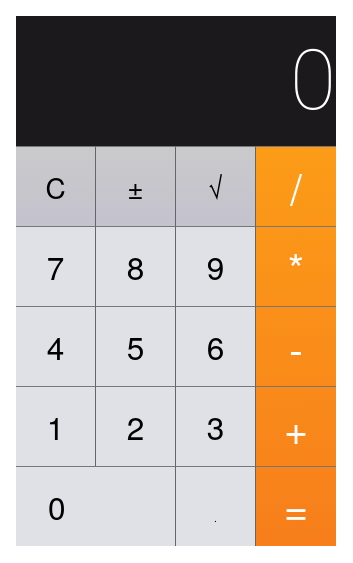
Test: Calculator Tests › should display 4 when "2 * 2 = " is clicked
Click the button with class "key-2": [136, 426] box [96, 386, 176, 466]
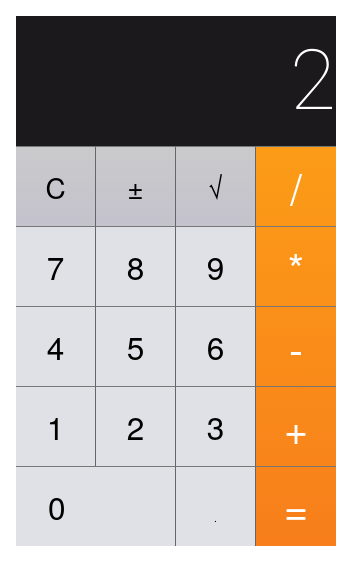
Click the button with class "key-multiply": [296, 266] box [256, 226, 336, 306]
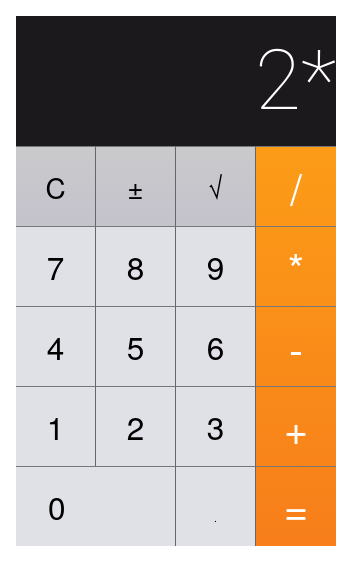
Click the button with class "key-2": [136, 426] box [96, 386, 176, 466]
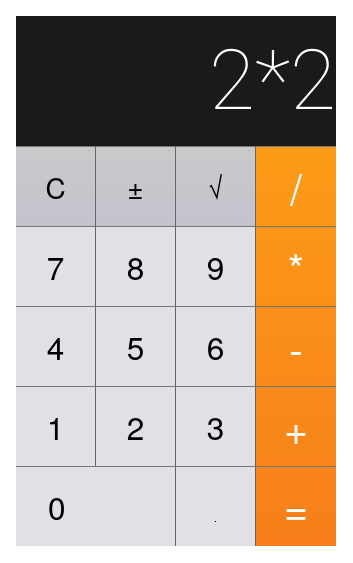
Click the button with class "key-equals": [296, 506] box [256, 466, 336, 546]
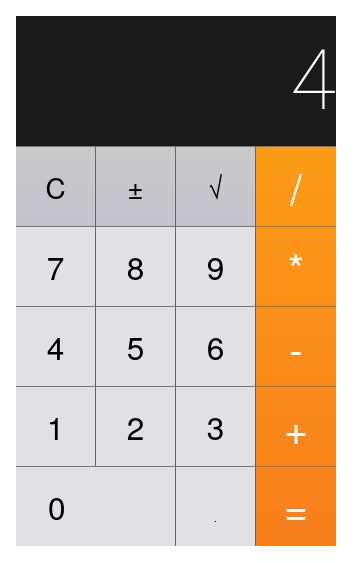
Expected: the text with class "calculator-display" reads "4", [16, 16, 336, 146]
